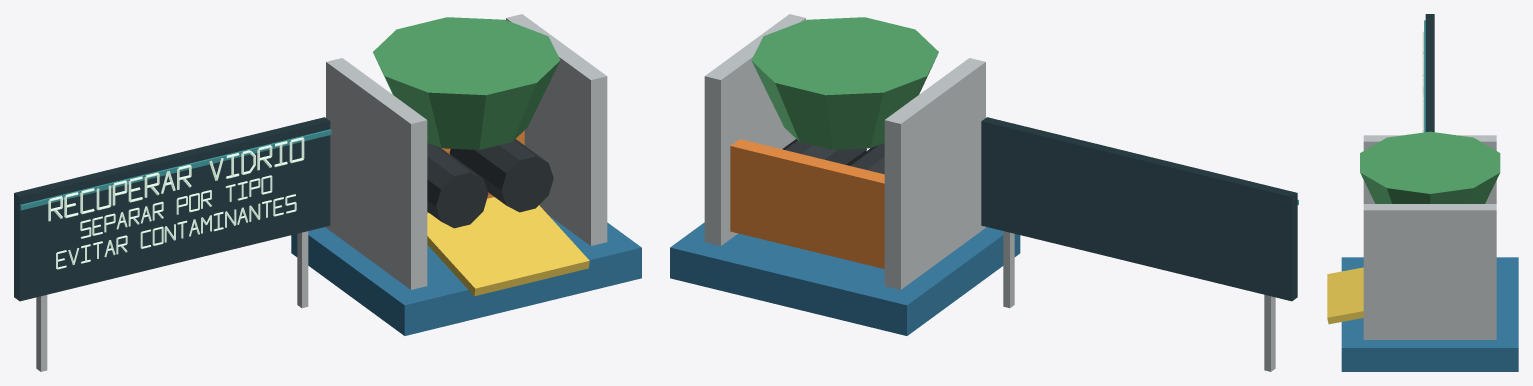
The model's file is CYCLE-020.glb.
3 renders of one model, left to right at view 1: azimuth 30°, elevation 25°; view 2: azimuth 150°, elevation 25°; view 3: azimuth 270°, elevation 25°, orthographic. The views are drawn at different scales.
Visible parts, largest first — view 1: CYCLE-020; view 2: CYCLE-020; view 3: CYCLE-020.
Boxes of the visible parts, x1,y1,x2,y2 form: CYCLE-020: (14, 14, 641, 371); CYCLE-020: (670, 14, 1298, 371); CYCLE-020: (1327, 14, 1518, 371).
Size of the model in its own units: 6.95 by 2.45 by 2.6.
